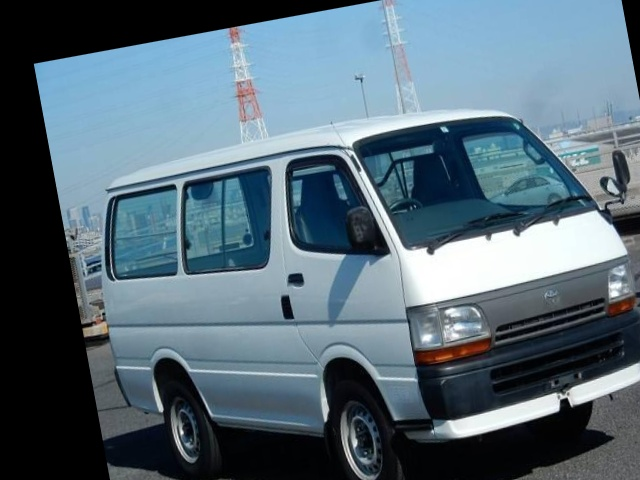van: (85, 84, 640, 480)
